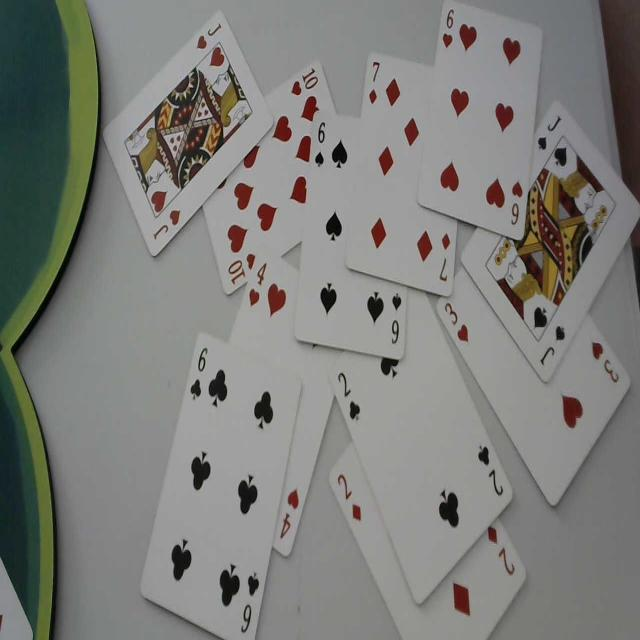10H: (224, 247, 256, 286), (290, 66, 320, 100)
2C: (476, 436, 506, 504), (337, 365, 361, 423)
2D: (484, 518, 516, 576), (337, 468, 365, 528)
3H: (588, 336, 622, 387), (442, 297, 472, 348)
4H: (246, 259, 270, 310), (279, 485, 299, 545)
6C: (240, 569, 260, 635), (189, 340, 209, 402)
6H: (509, 176, 525, 229), (443, 6, 456, 50)
6S: (386, 286, 404, 350), (312, 114, 328, 170)
7D: (437, 231, 451, 285), (370, 54, 380, 108)
JH: (153, 208, 181, 243), (196, 17, 222, 53)
JS: (538, 325, 570, 367), (535, 112, 563, 156)
